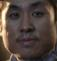without_mask: (2, 1, 57, 61)
